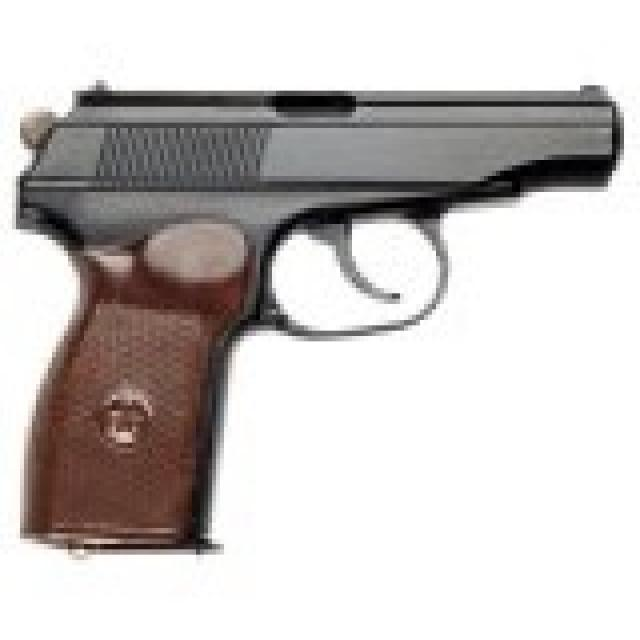Gun: (17, 21, 630, 560)
